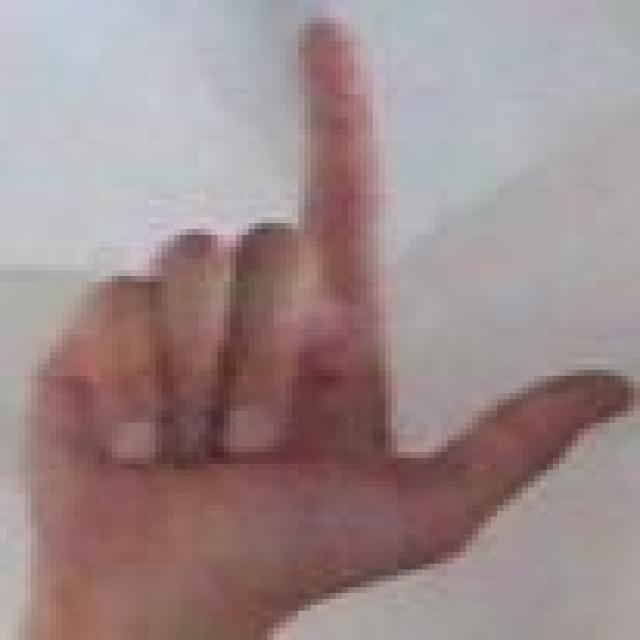L: (17, 18, 629, 603)
